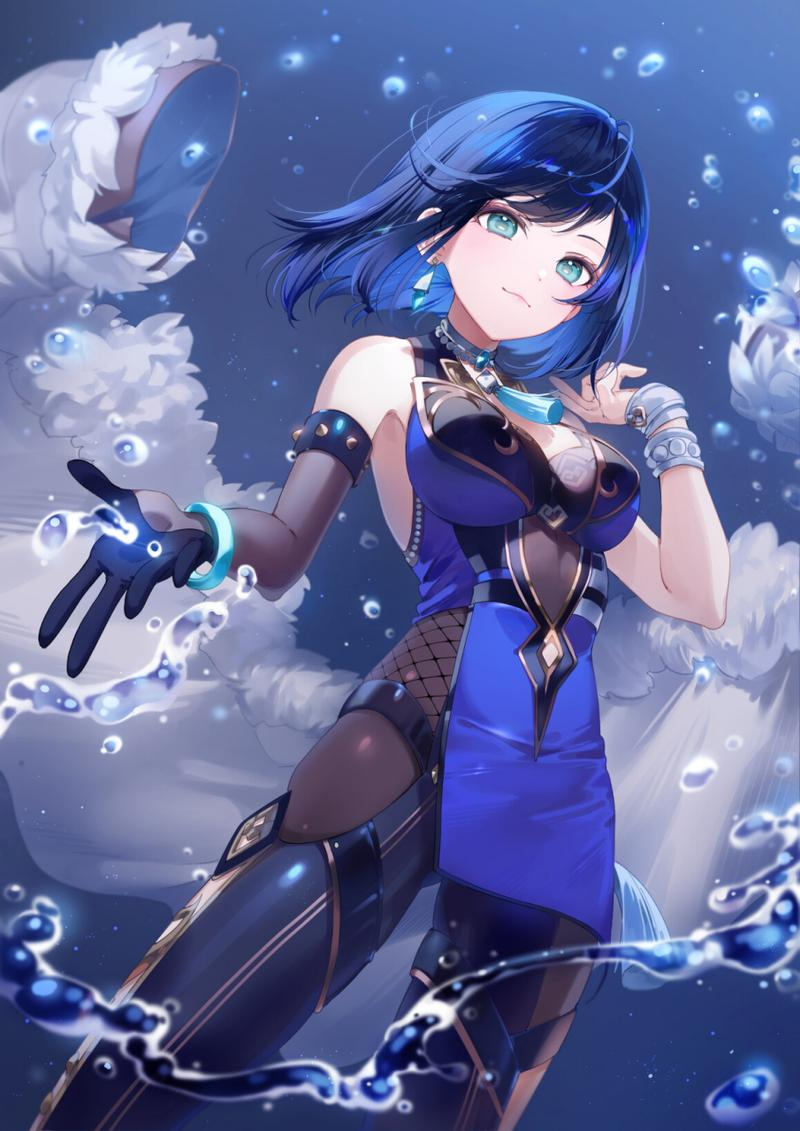夜兰: (34, 86, 730, 1129)
